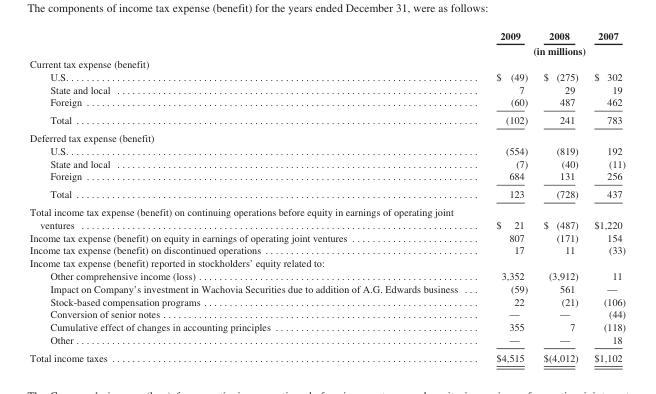table: (29, 29, 625, 363)
table column: (29, 29, 476, 363), (476, 29, 534, 363), (534, 29, 585, 363), (585, 29, 625, 363)
table column header: (29, 29, 625, 57)
table projected row header: (29, 128, 625, 144), (29, 256, 625, 269), (29, 57, 625, 69)
table row: (29, 202, 625, 230), (29, 110, 625, 128), (29, 184, 625, 202), (29, 128, 625, 144), (29, 42, 625, 57), (29, 95, 625, 110), (29, 169, 625, 184), (29, 333, 625, 348), (29, 348, 625, 363), (29, 29, 625, 42), (29, 69, 625, 82), (29, 82, 625, 95), (29, 156, 625, 169), (29, 230, 625, 243), (29, 243, 625, 256), (29, 256, 625, 269), (29, 281, 625, 294), (29, 294, 625, 307), (29, 307, 625, 320), (29, 320, 625, 333), (29, 57, 625, 69), (29, 144, 625, 156), (29, 269, 625, 281)
table spanning cell: (476, 42, 625, 57)
